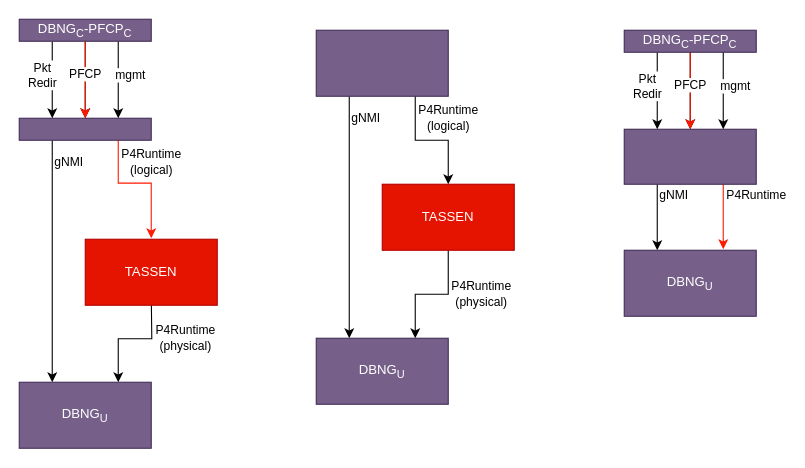
Image size: 805x468. Some labels were removed from this diagram. The box of each missing label's shape, as (x1, y1, x2, y2) in pixels:
DBNG C: (315, 29, 448, 96)
DBNG C -PFCP U: (623, 128, 756, 184)
DBNG U -PFCP U: (18, 117, 151, 140)
